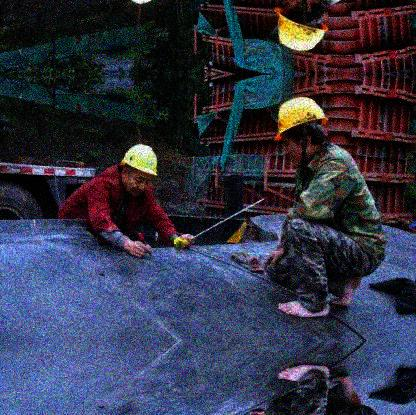helmet: (274, 95, 329, 164), (273, 1, 328, 51), (118, 144, 157, 198)
